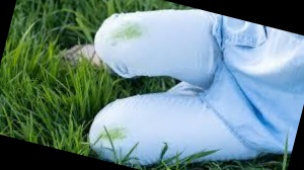earth: (113, 23, 145, 43), (102, 124, 125, 143)
